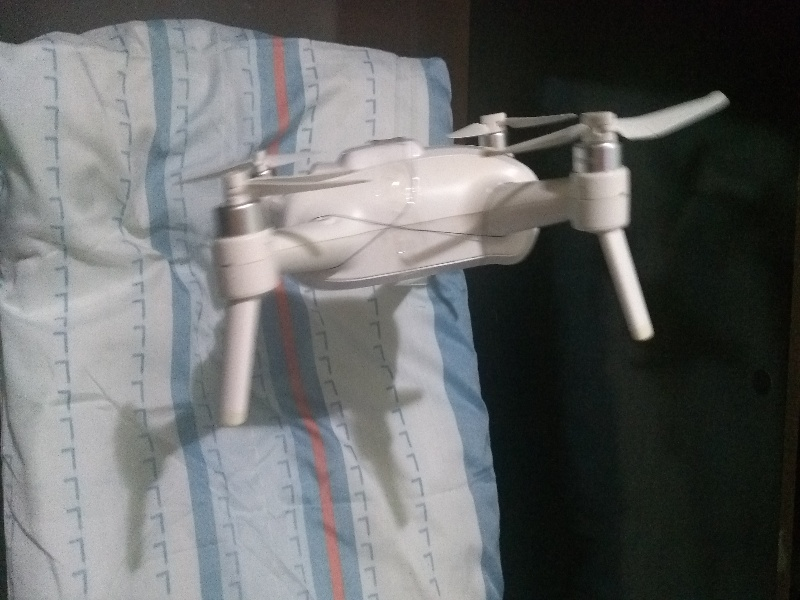drone: (186, 92, 733, 414)
